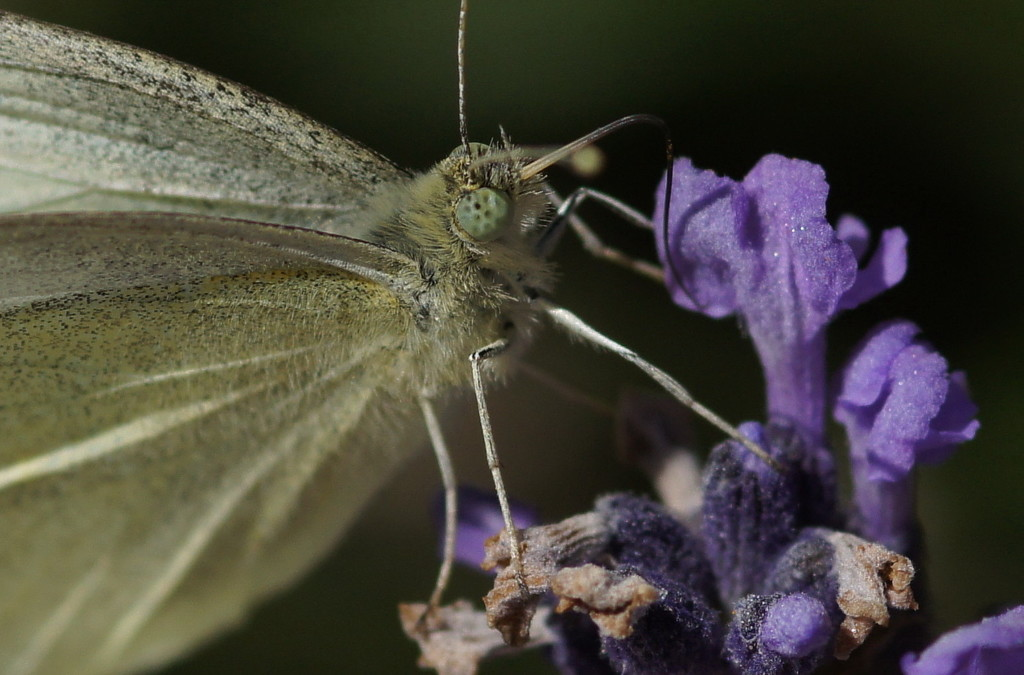Butterfly: (2, 2, 740, 675)
